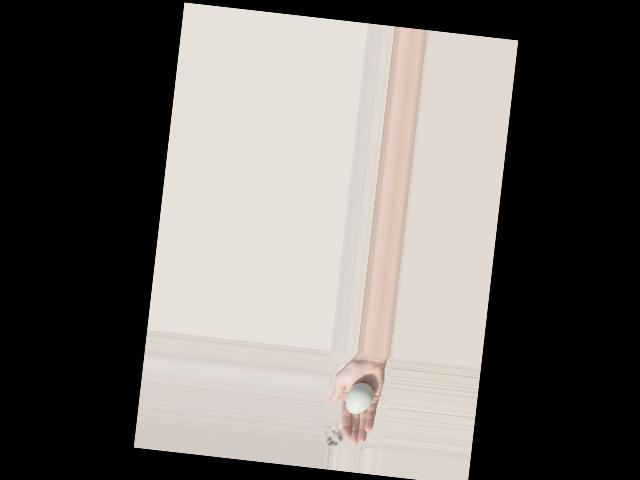egg: (345, 382, 375, 415)
